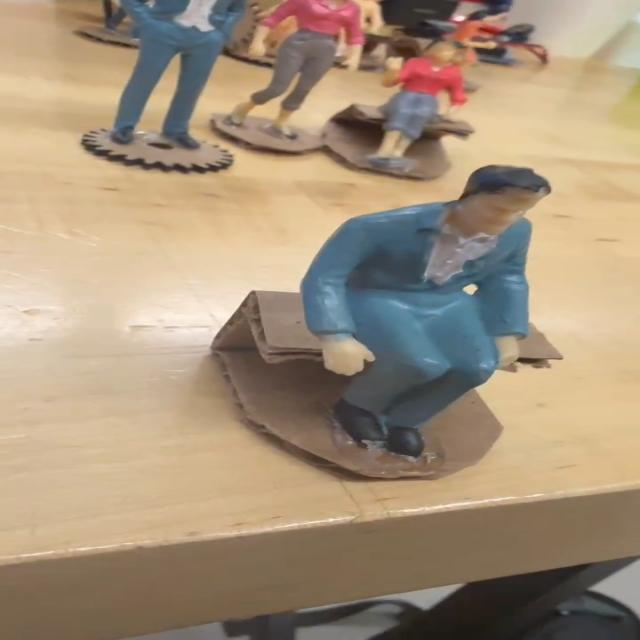Authorized: (231, 163, 640, 509)
